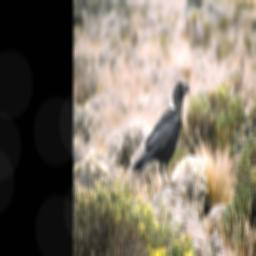Crow: (131, 77, 191, 192)
